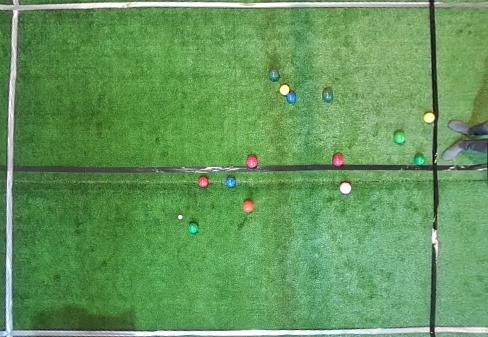blue: (286, 91, 297, 103), (226, 175, 236, 188)
green: (394, 130, 406, 143), (187, 222, 199, 234), (414, 153, 425, 166), (322, 90, 333, 102), (269, 69, 279, 81)
red: (339, 181, 352, 194), (242, 200, 254, 213), (246, 156, 258, 169), (332, 154, 344, 166), (198, 176, 209, 187)
vline: (428, 0, 487, 336), (0, 0, 21, 336)
white: (178, 214, 183, 219)
yellow: (423, 112, 435, 124), (279, 85, 290, 96)
